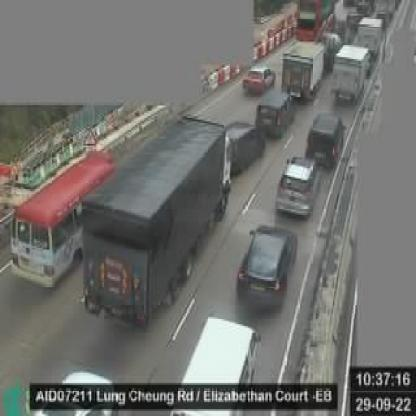Bus: (294, 0, 339, 42)
Car: (164, 316, 269, 412), (237, 218, 300, 319), (274, 153, 322, 227), (217, 116, 269, 177), (306, 108, 347, 174), (329, 43, 370, 108), (248, 90, 295, 141), (241, 59, 278, 95), (355, 12, 381, 63)
Minibus: (9, 146, 118, 289)
Truck: (84, 107, 229, 336), (280, 31, 327, 106)
